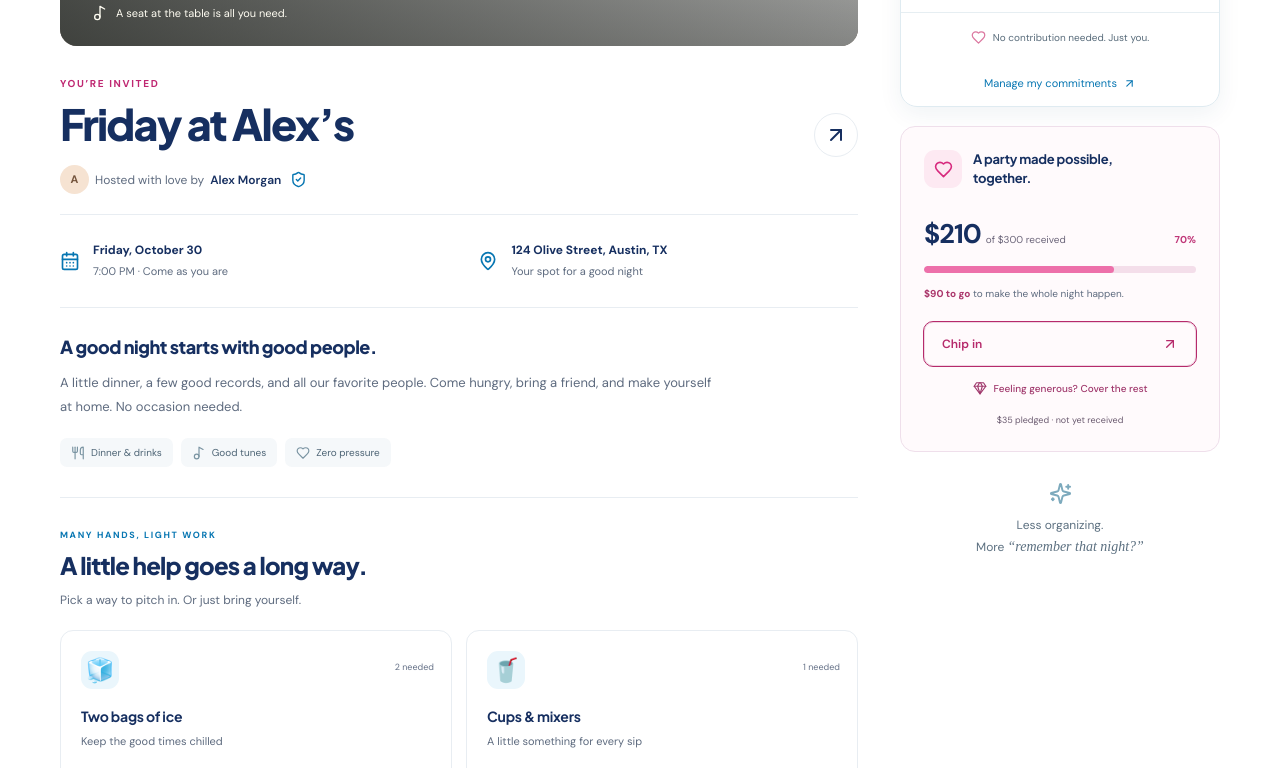
Scenario: invitation participation › shows invalid pledge errors and preserves the funding balance
The width and height of the screenshot is (1280, 768).
(page scrolled)
Click the button "Chip in" at (962, 344), box [924,322,1196,366]
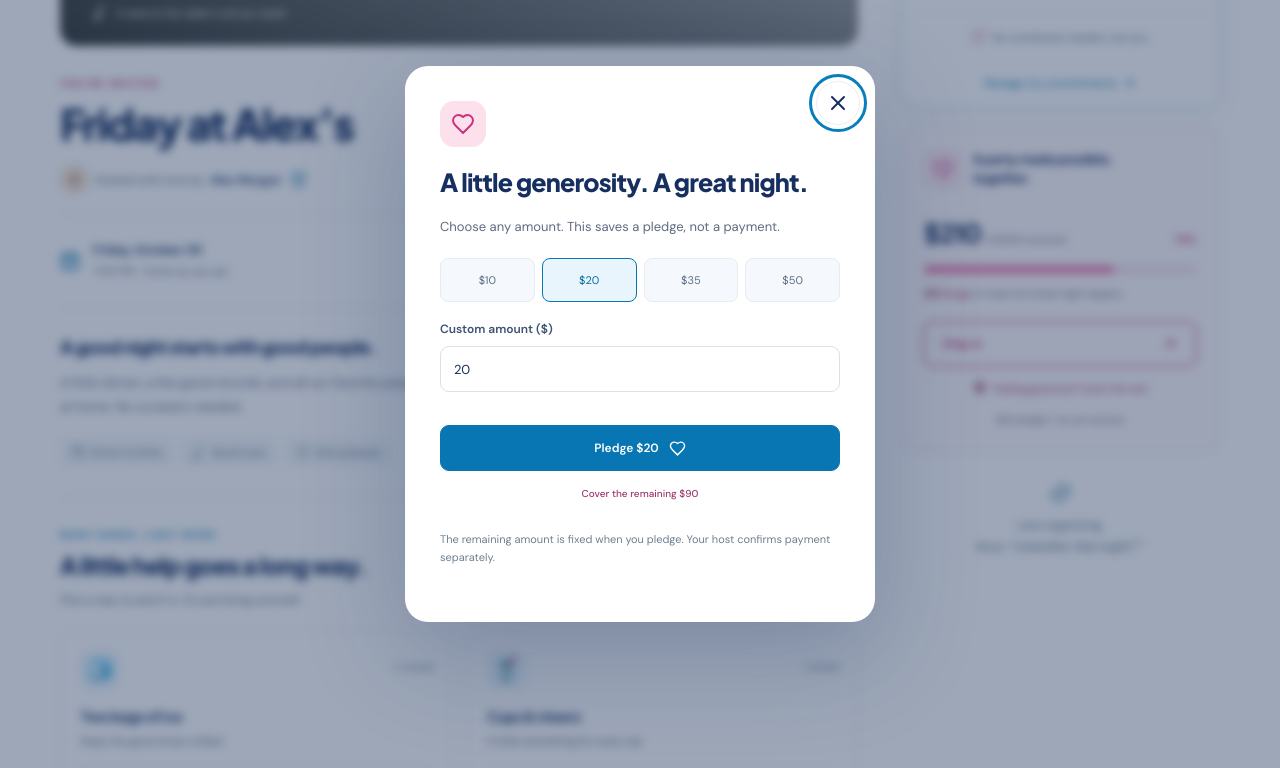
Replace the text in the number field labelled "Custom amount ($)" with "-5" at (640, 369), box [440,346,840,392]
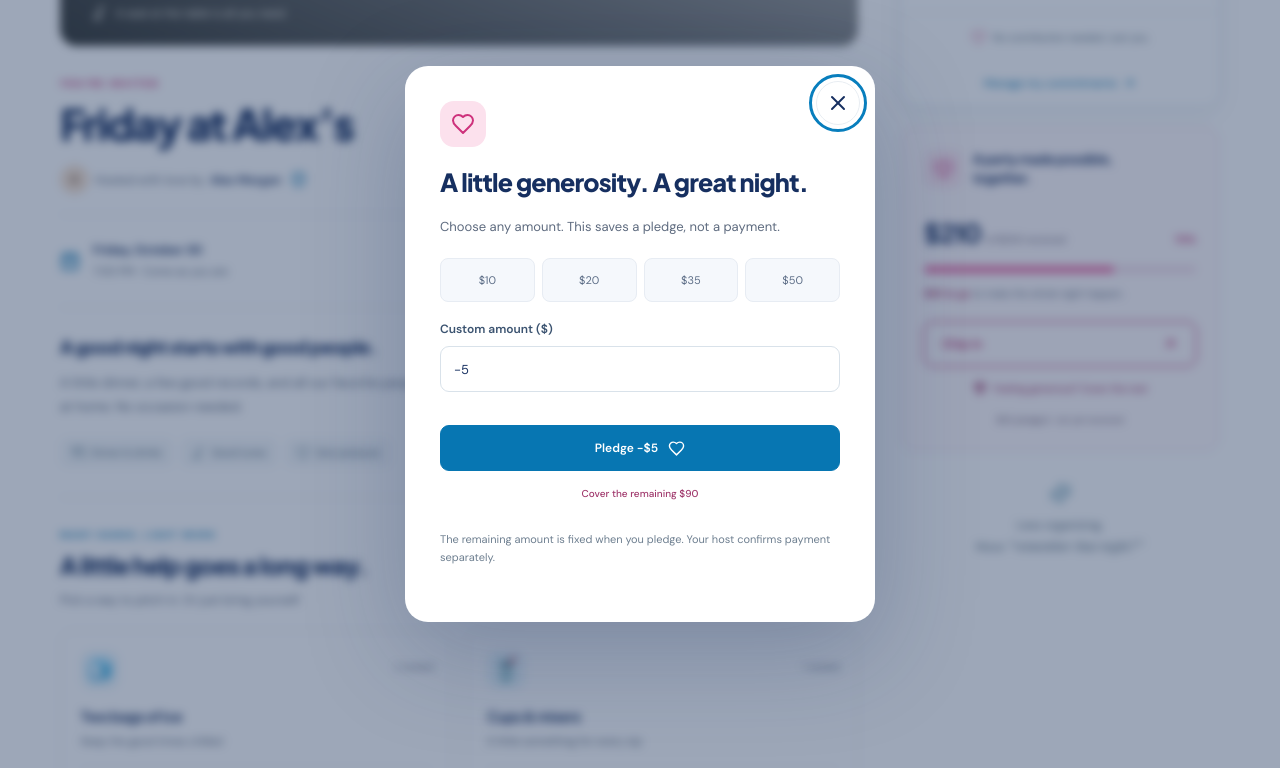
Click the button "Pledge -$5" at (640, 448), box [440,425,840,471]
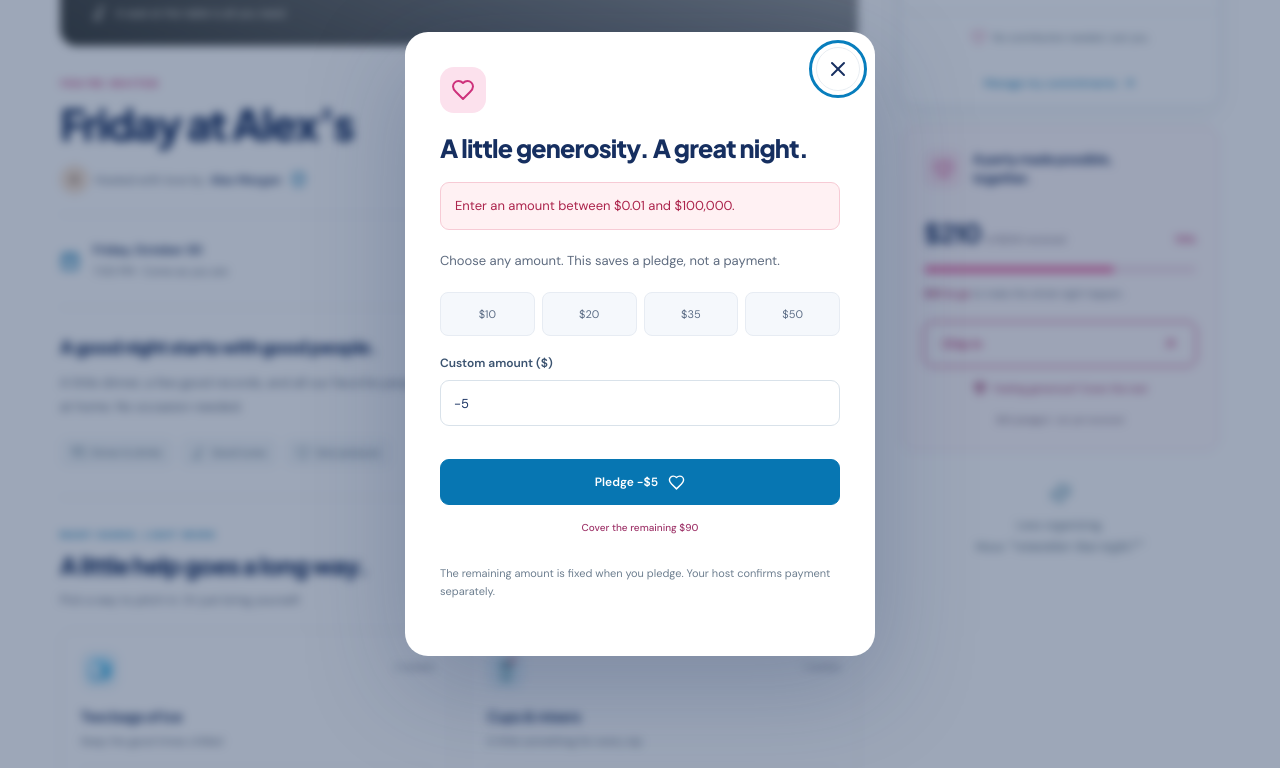
expect the message shows "Enter an amount": met, box [455,197,735,214]
